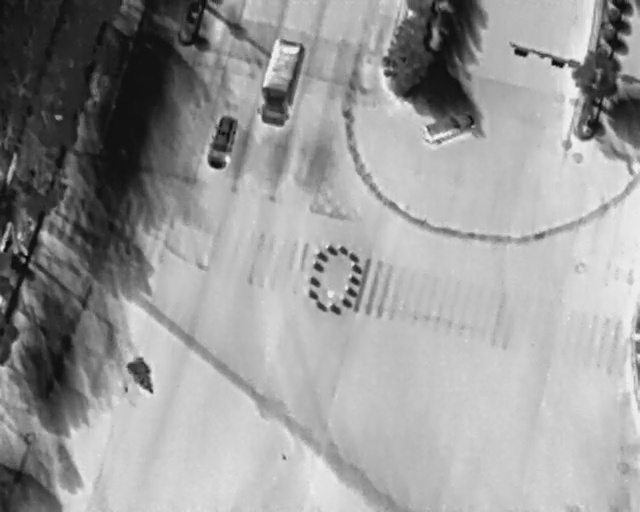Car: (419, 107, 478, 147), (204, 113, 239, 172)
OtherVehicle: (252, 36, 308, 130), (121, 354, 160, 400)
